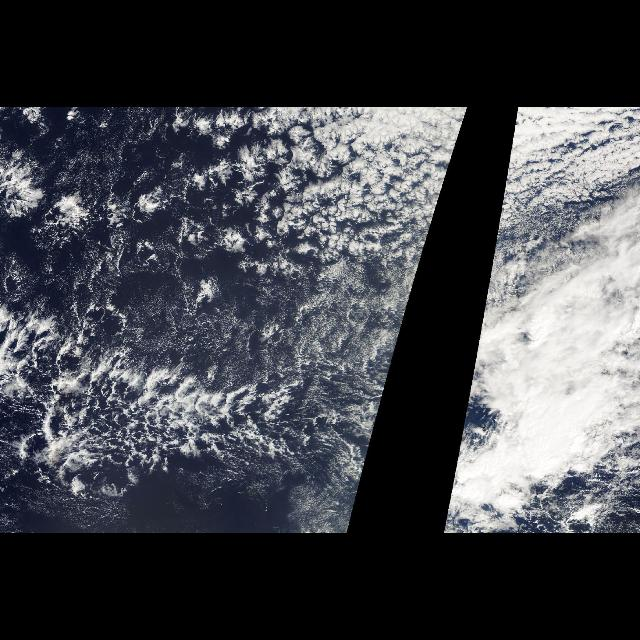Fish: (0, 308, 294, 502)
Flower: (166, 109, 348, 265)
Gravel: (58, 366, 354, 498)
Sugar: (1, 242, 399, 376)
